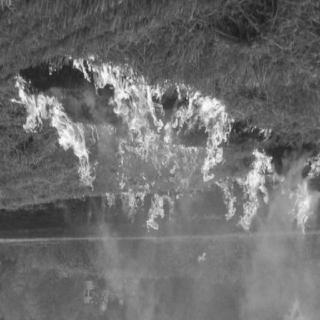Fire: (9, 44, 231, 244), (197, 252, 207, 266)
Smoke: (93, 238, 125, 280)
